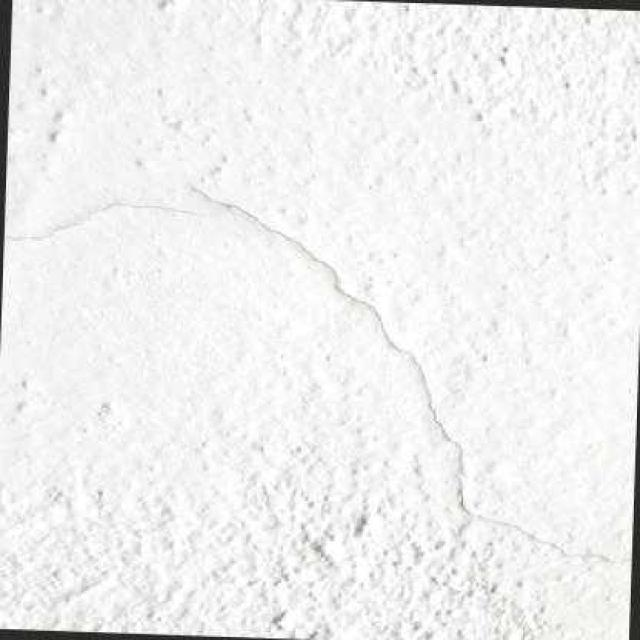D00: (3, 184, 632, 567)
